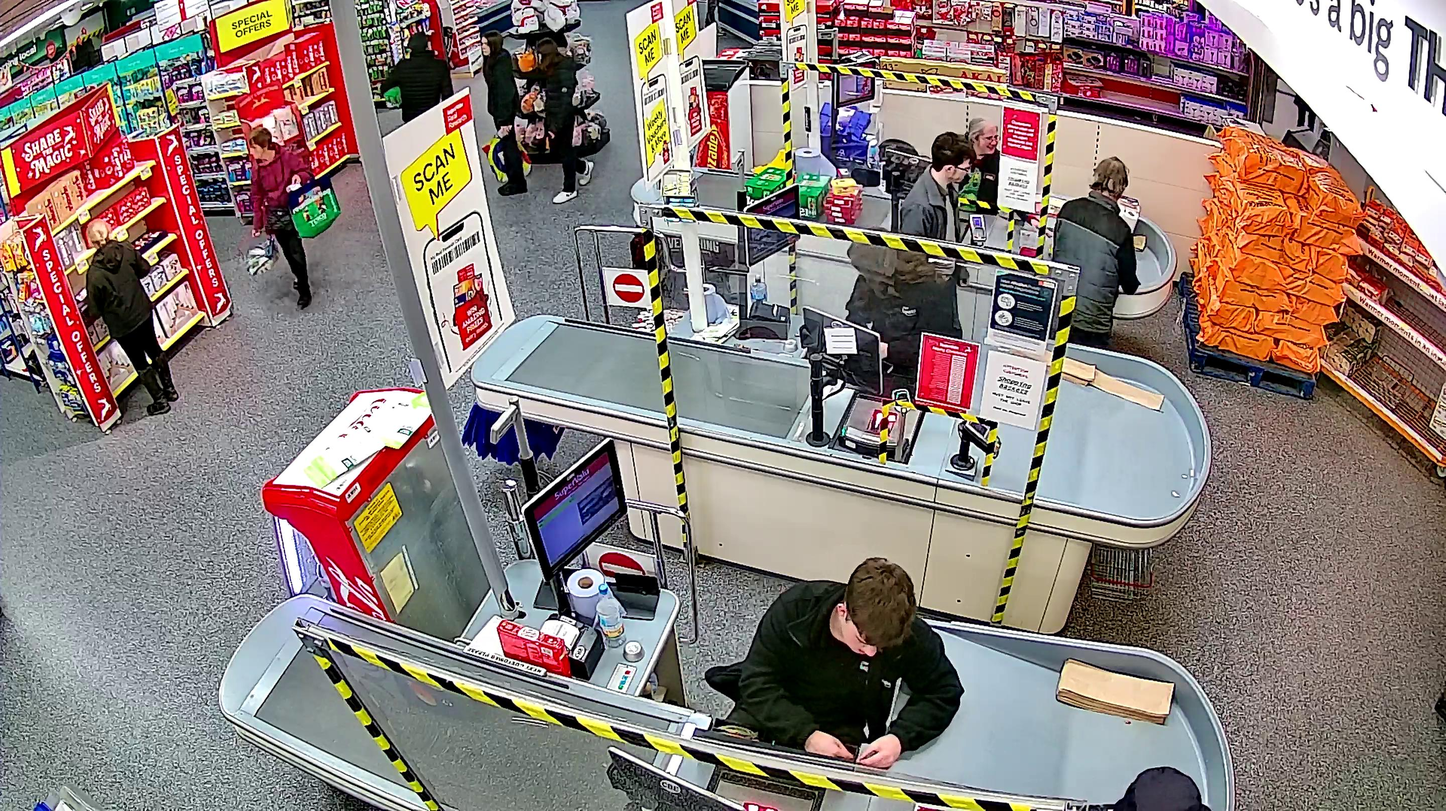backpack-or-handbag: (264, 207, 293, 232)
filled-basket: (235, 231, 280, 277)
filled-shopping-bags: (287, 174, 342, 238), (482, 131, 532, 182)
occupied-checkout-counter: (525, 434, 915, 811), (740, 186, 1000, 481), (833, 53, 1026, 251)
person: (248, 127, 314, 310), (480, 29, 528, 197)
person-with-basket-trolly-shopping-bag-s-and-backpack-handbag: (235, 127, 342, 310)
person-with-filled-shopping-bag-s-: (480, 29, 533, 197)
